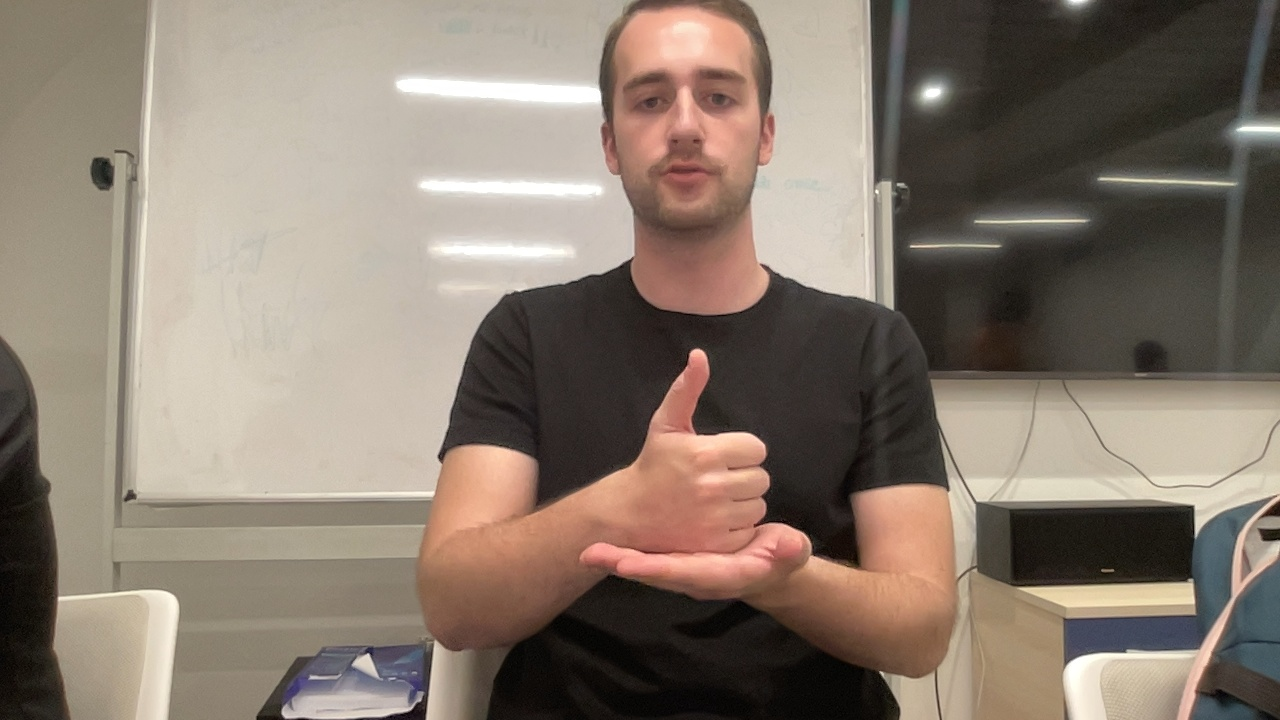Help: (573, 342, 817, 608)
